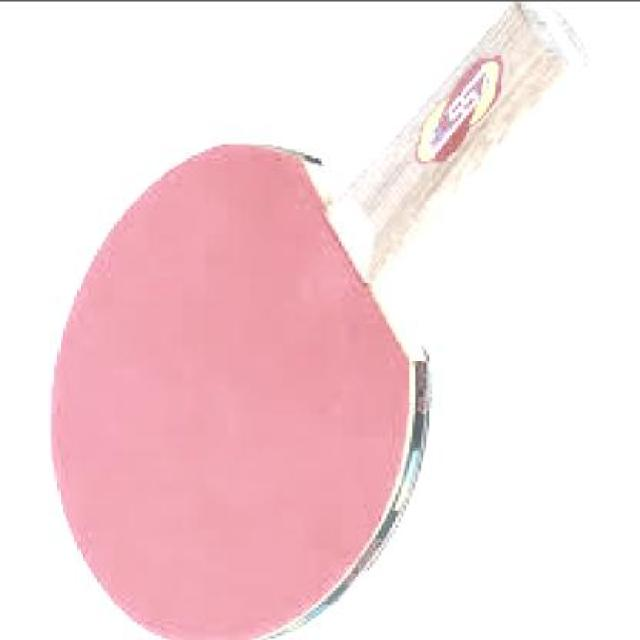table_tennis_racket: (45, 134, 437, 638)
